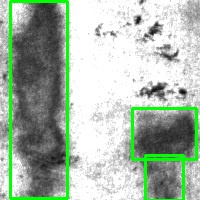patches: (11, 1, 67, 198), (132, 108, 196, 159), (145, 155, 183, 200)
